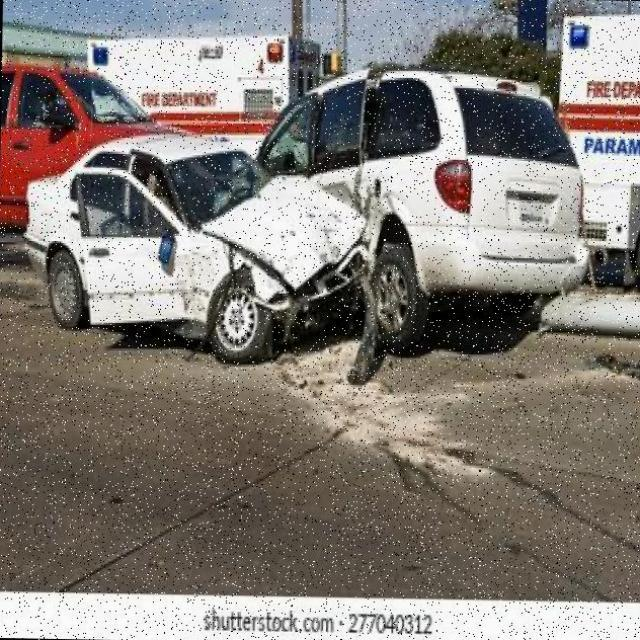accident: (46, 57, 555, 339)
